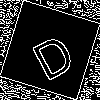D: (25, 25, 78, 82)
